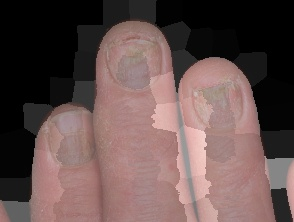Nail_psoriasis: (92, 16, 177, 101), (34, 100, 104, 184), (184, 67, 255, 144)
